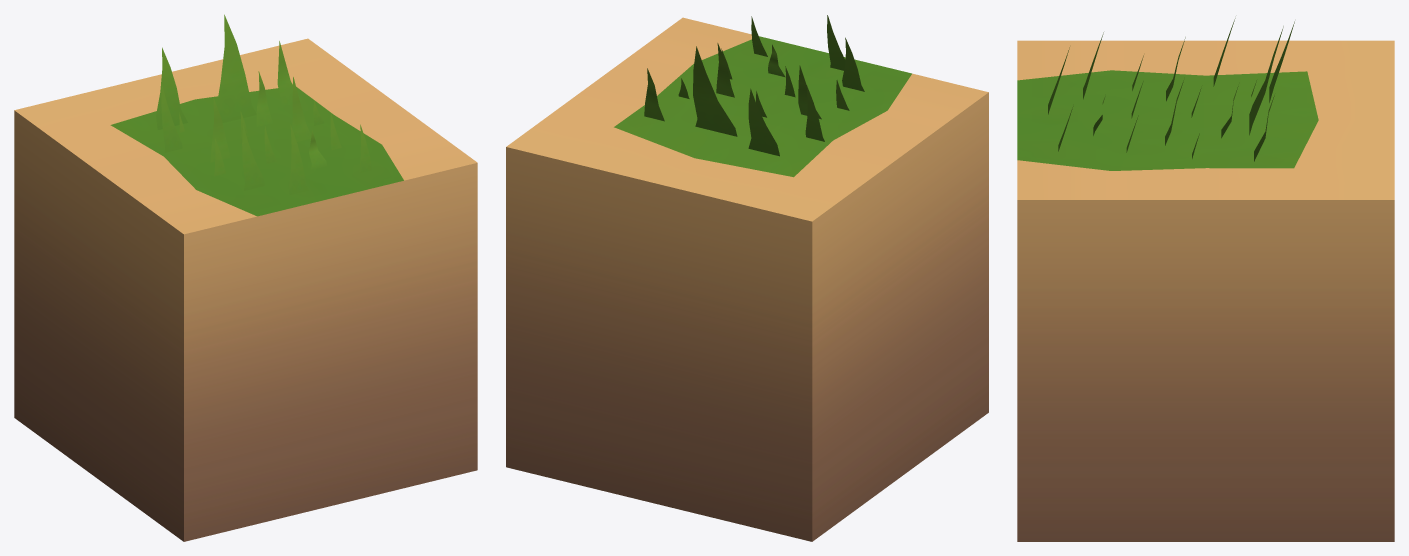
Rendered from threesideb m tile.fbx.
3 renders of one model, left to right at view 1: azimuth 30°, elevation 25°; view 2: azimuth 150°, elevation 25°; view 3: azimuth 270°, elevation 25°, orthographic. The views are drawn at different scales.
Visible parts, largest first — view 1: thsideb_m_tile, thsideb_m_grass; view 2: thsideb_m_tile, thsideb_m_grass; view 3: thsideb_m_tile, thsideb_m_grass.
Boxes of the visible parts, <box> form: thsideb_m_tile: <box>14,38,477,541</box>; thsideb_m_grass: <box>156,14,372,194</box>; thsideb_m_tile: <box>506,17,988,541</box>; thsideb_m_grass: <box>644,15,864,156</box>; thsideb_m_tile: <box>1017,40,1394,541</box>; thsideb_m_grass: <box>1048,18,1294,161</box>.
Size of the model in its own units: 10 by 13.03 by 10.
